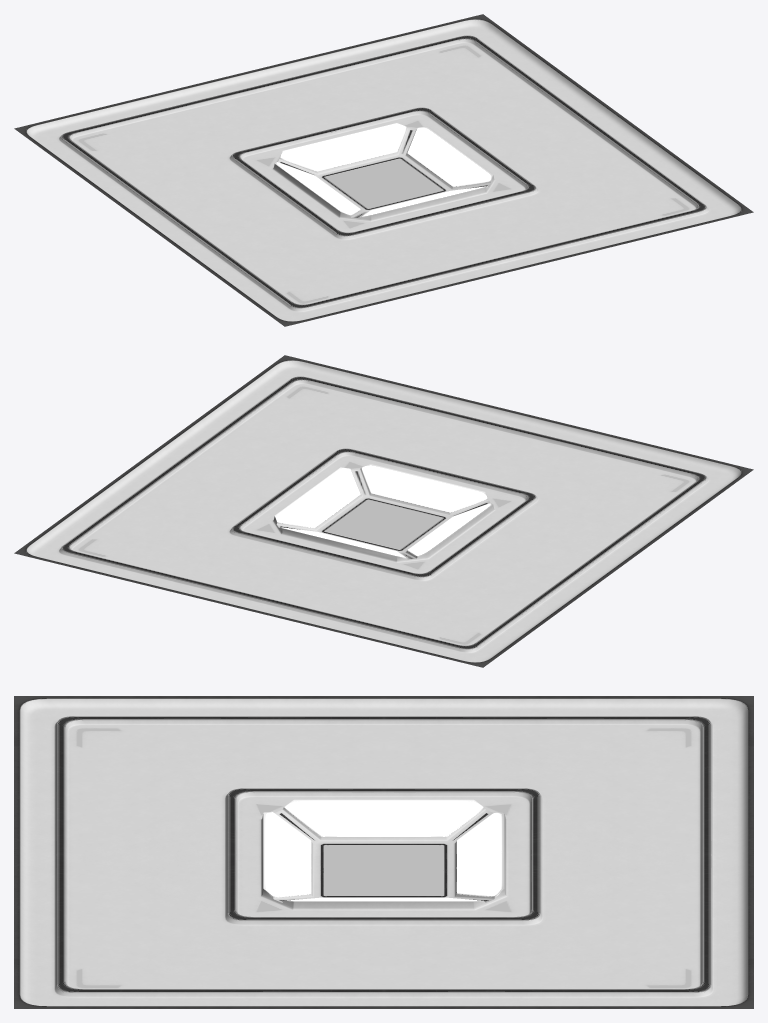
The model's file is MCeiling02-350x350-3.FBX.
3 renders of one model, top to bottom at view 1: azimuth 30°, elevation 25°; view 2: azimuth 150°, elevation 25°; view 3: azimuth 270°, elevation 25°, orthographic. The views are drawn at different scales.
Visible parts, largest first — view 1: MCeiling02-350x350-3; view 2: MCeiling02-350x350-3; view 3: MCeiling02-350x350-3.
Boxes of the visible parts, x1,y1,x2,y2 form: MCeiling02-350x350-3: (14, 14, 753, 326); MCeiling02-350x350-3: (14, 355, 753, 667); MCeiling02-350x350-3: (14, 696, 753, 1008).
Size of what is drawn, in the model's own units: 3.51 by 0.1045 by 3.51.
